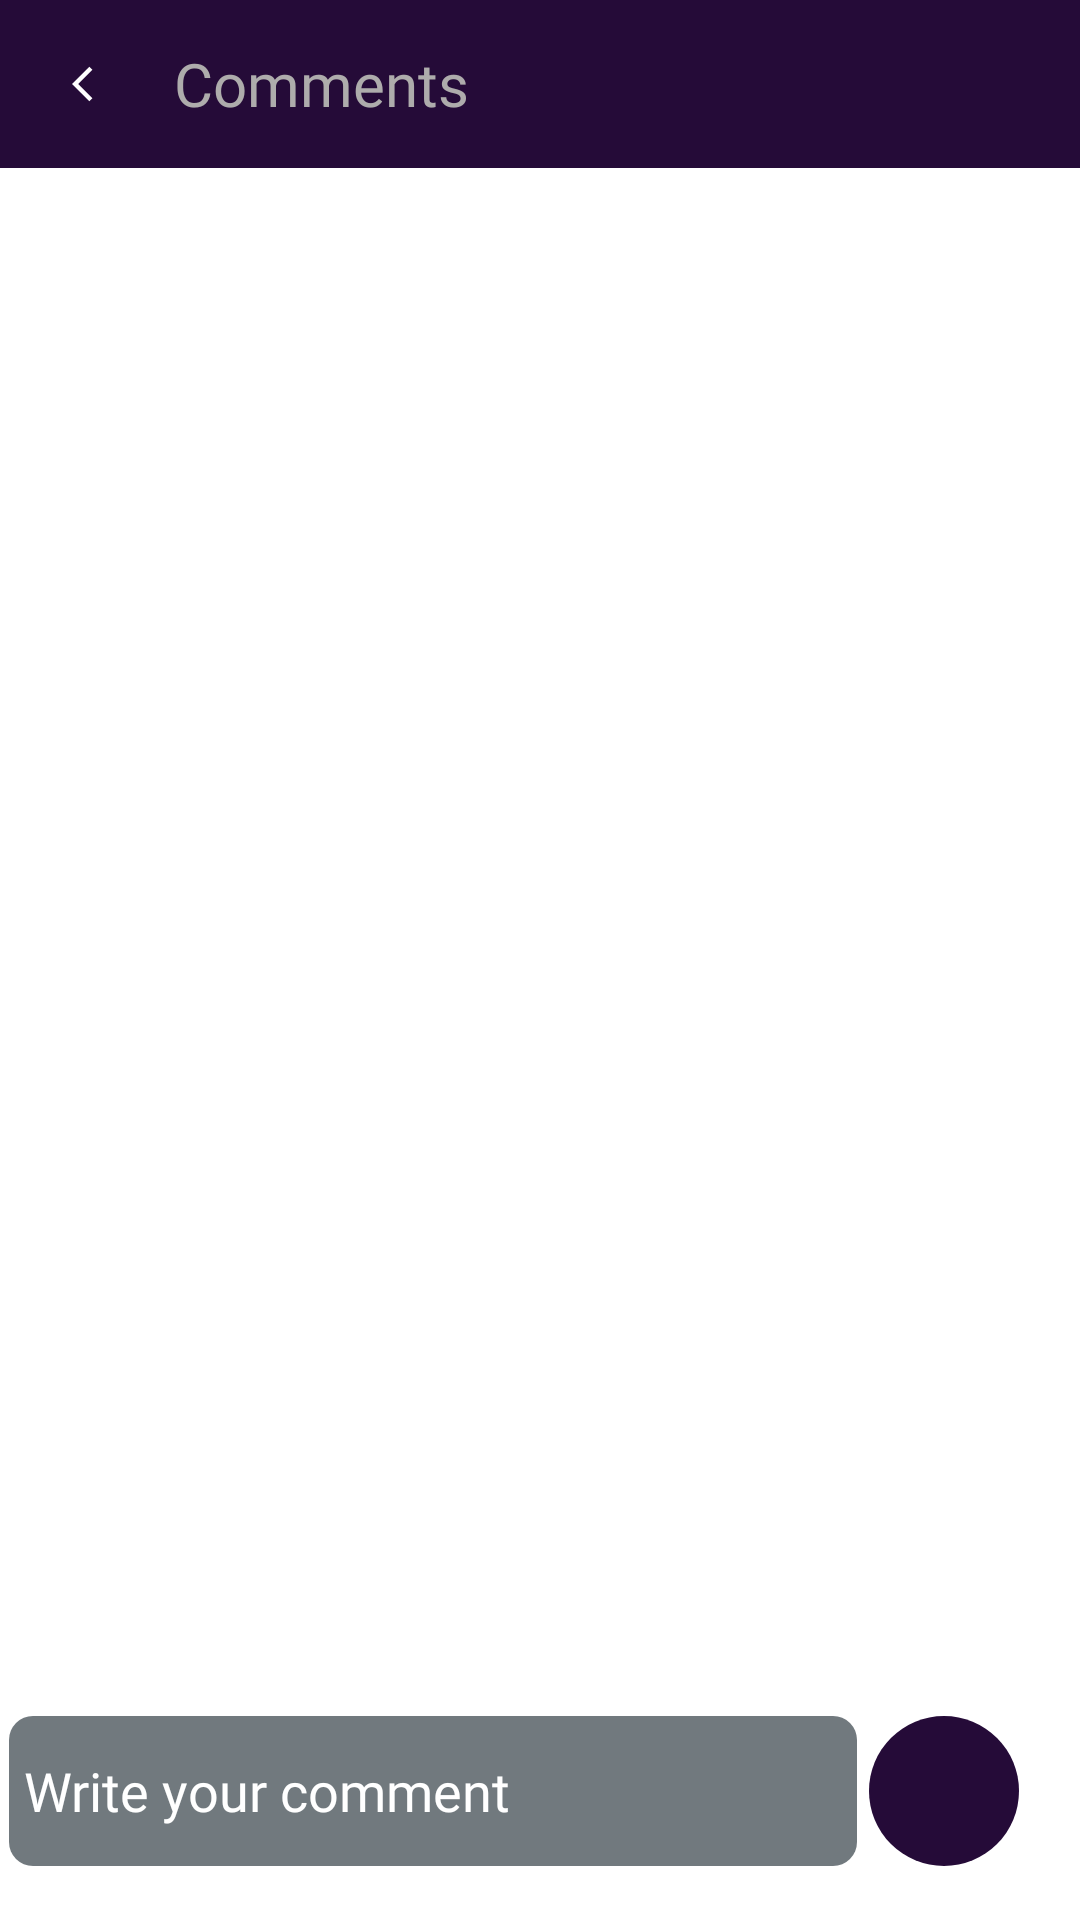

Where icons sit on this 1080w x 1920h app screen, as (x1, y1, x2, y2):
arrow back: (72, 67, 93, 101)
